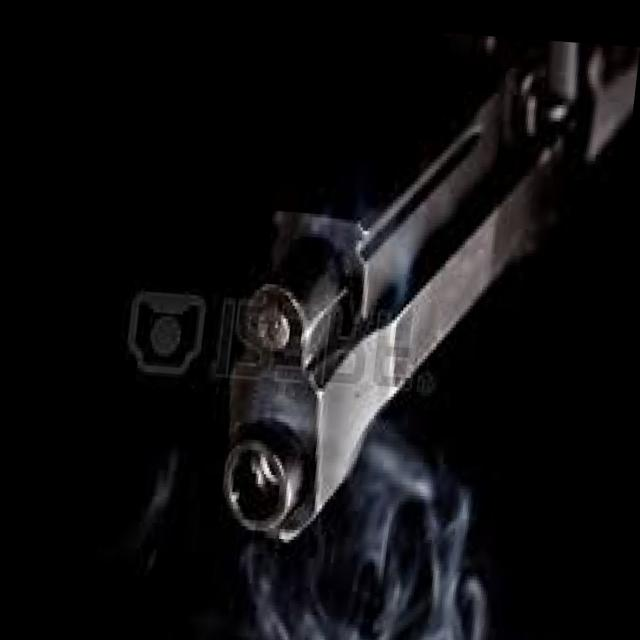handgun: (212, 19, 637, 575)
